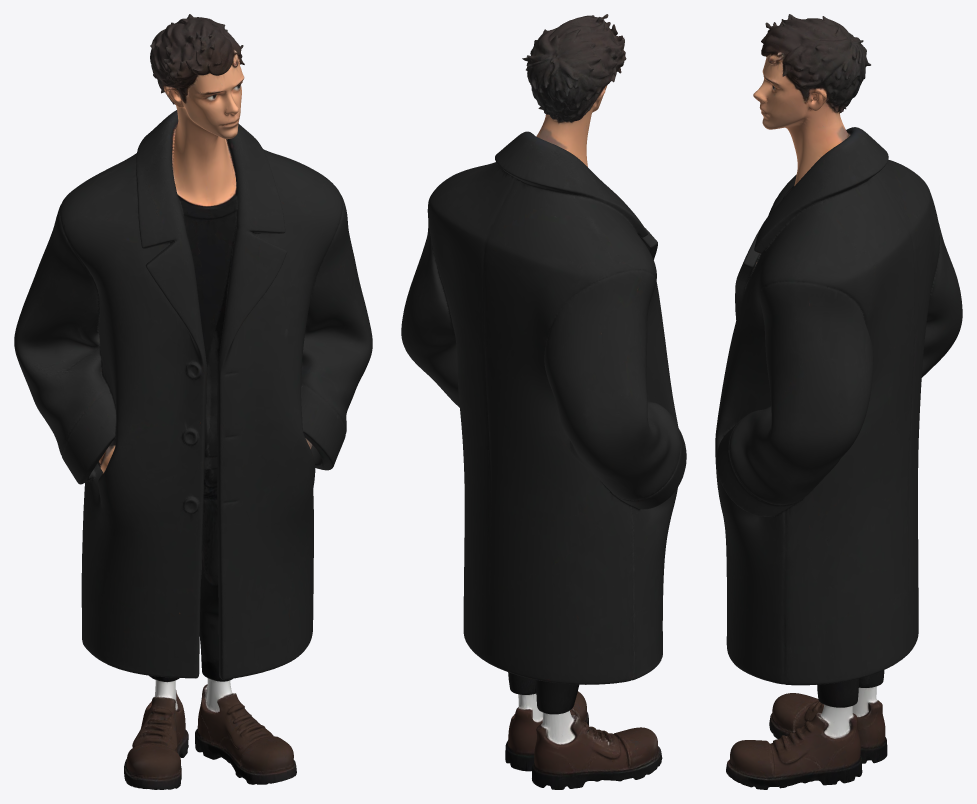
3 renders of one model, left to right at view 1: azimuth 30°, elevation 25°; view 2: azimuth 150°, elevation 25°; view 3: azimuth 270°, elevation 25°, orthographic.
Bounding box in the file's own units: 0.7767 × 1.9 × 0.5774.
Materials: 1 (1 with a texture image).
